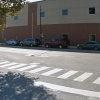Crosswalk: (12, 56, 100, 97)
